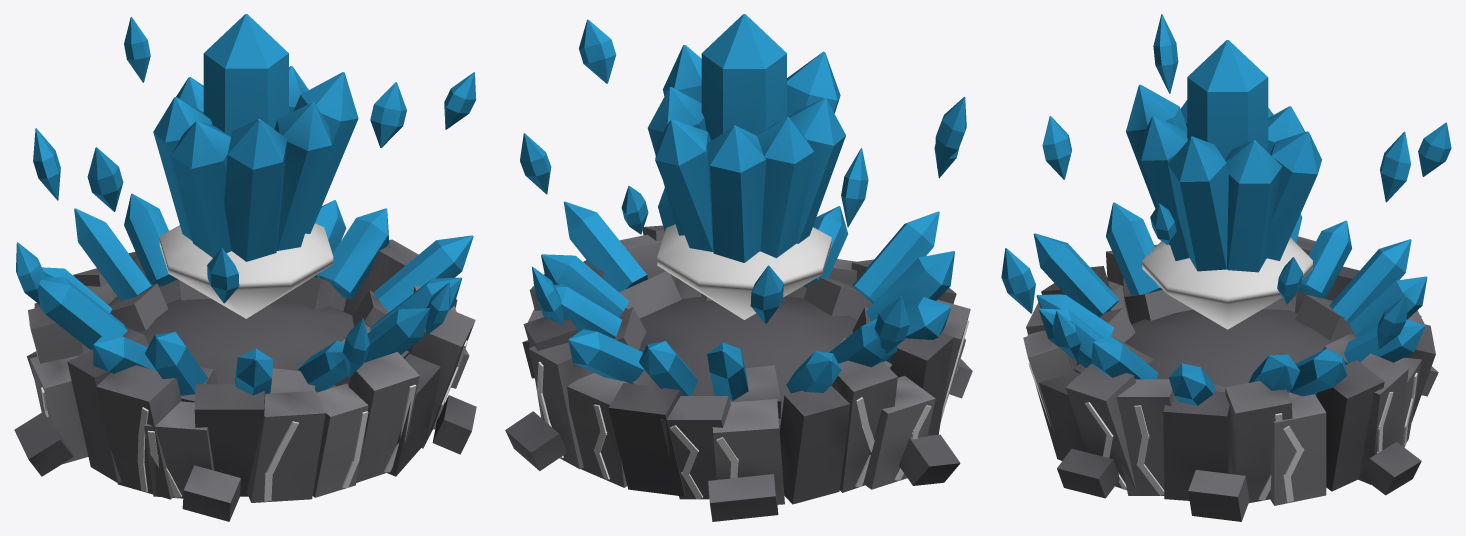
Rendered from DiamondRock.fbx.
3 views of the same model, side by side, from view 1: azimuth 30°, elevation 25°; view 2: azimuth 150°, elevation 25°; view 3: azimuth 270°, elevation 25° (orthographic). The views are drawn at different scales.
Visible parts, largest first — view 1: Rock, Crystals, Shards, Core, Veins; view 2: Rock, Crystals, Shards, Core, Veins; view 3: Rock, Crystals, Shards, Core, Veins.
Part boxes in pixels (box(x1,y1,x2,y2)): Rock: box(14, 239, 476, 521); Crystals: box(38, 14, 473, 395); Shards: box(16, 17, 476, 377); Core: box(159, 223, 333, 318); Veins: box(29, 323, 467, 501); Rock: box(505, 225, 972, 521); Crystals: box(538, 14, 954, 400); Shards: box(520, 19, 966, 352); Core: box(657, 224, 831, 319); Veins: box(537, 320, 969, 499); Rock: box(1023, 236, 1438, 521); Crystals: box(1033, 40, 1427, 405); Shards: box(1001, 14, 1451, 359); Core: box(1142, 237, 1312, 329); Veins: box(1028, 363, 1417, 502).
Bounding box in the file's own units: 106 × 96.8 × 100.
